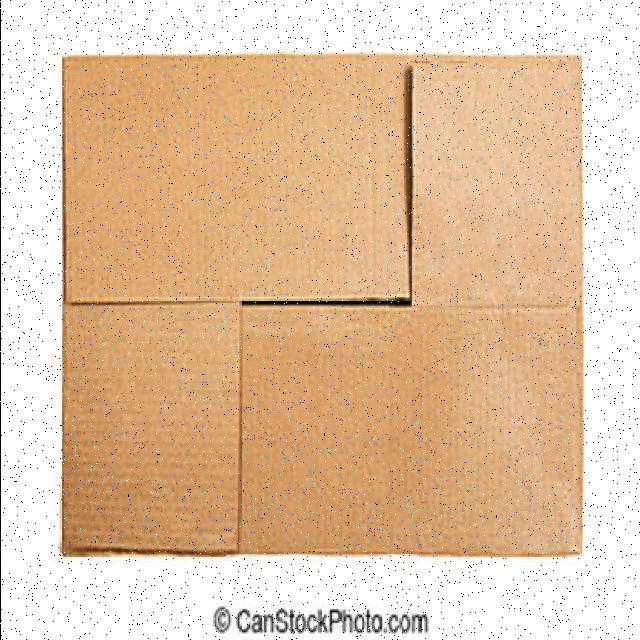defect: (52, 40, 596, 588)
